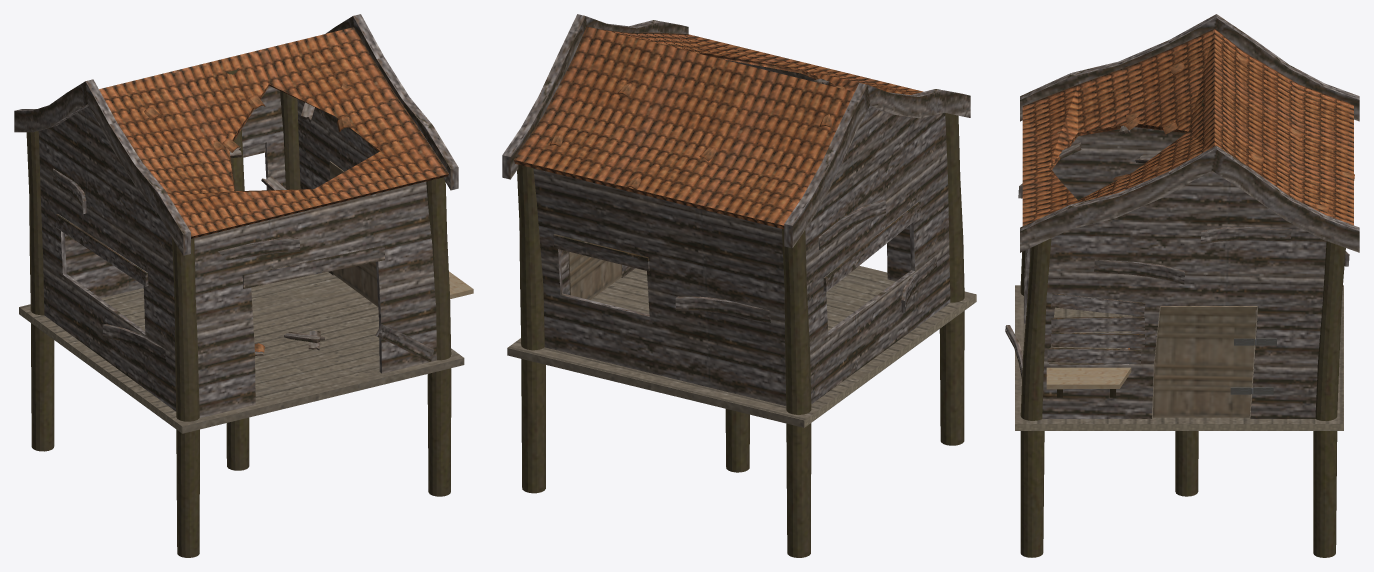
File: Thorpe_Hut.fbx
3 renders of one model, left to right at view 1: azimuth 30°, elevation 25°; view 2: azimuth 150°, elevation 25°; view 3: azimuth 270°, elevation 25°, orthographic. The views are drawn at different scales.
Visible parts, largest first — view 1: fishing_hut; view 2: fishing_hut; view 3: fishing_hut.
Part boxes in pixels (x1,y1,x2,y2): fishing_hut: (14, 14, 473, 557); fishing_hut: (502, 14, 976, 557); fishing_hut: (1005, 14, 1359, 557).
Size of the model in its own units: 779 by 967 by 758.
Materials: 1 (1 with a texture image).
